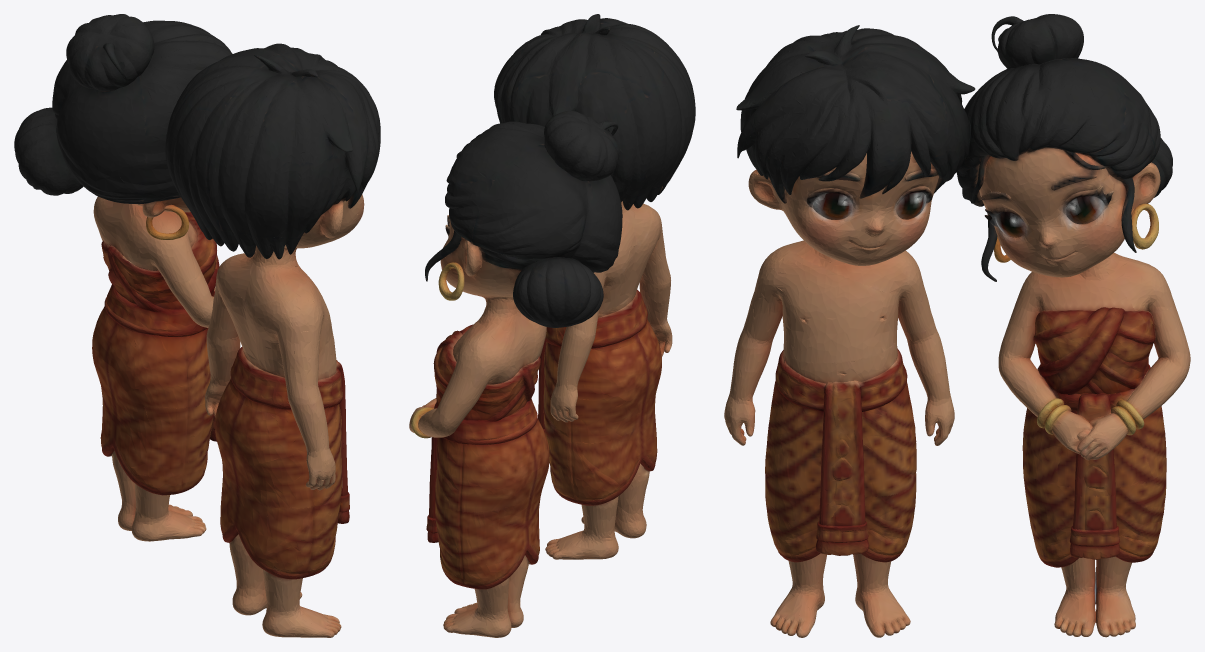
The model's file is phunam7.glb.
3 views of the same model, side by side, from view 1: azimuth 30°, elevation 25°; view 2: azimuth 150°, elevation 25°; view 3: azimuth 270°, elevation 25° (orthographic). The views are drawn at different scales.
Visible parts, largest first — view 1: tripo_node_b83d48e0-6e4c-41fd-bda0-470ba006fe3a; view 2: tripo_node_b83d48e0-6e4c-41fd-bda0-470ba006fe3a; view 3: tripo_node_b83d48e0-6e4c-41fd-bda0-470ba006fe3a.
Boxes of the visible parts, <box> form: tripo_node_b83d48e0-6e4c-41fd-bda0-470ba006fe3a: <box>14,14,380,637</box>; tripo_node_b83d48e0-6e4c-41fd-bda0-470ba006fe3a: <box>409,14,695,637</box>; tripo_node_b83d48e0-6e4c-41fd-bda0-470ba006fe3a: <box>724,14,1190,637</box>.
Size of the model in its own units: 0.4098 by 0.9998 by 0.7213.
1 material, 1 textured.
